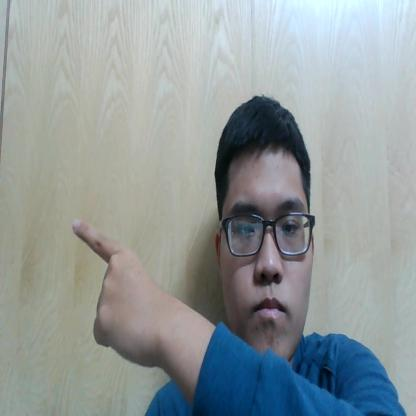right: (55, 208, 184, 374)
